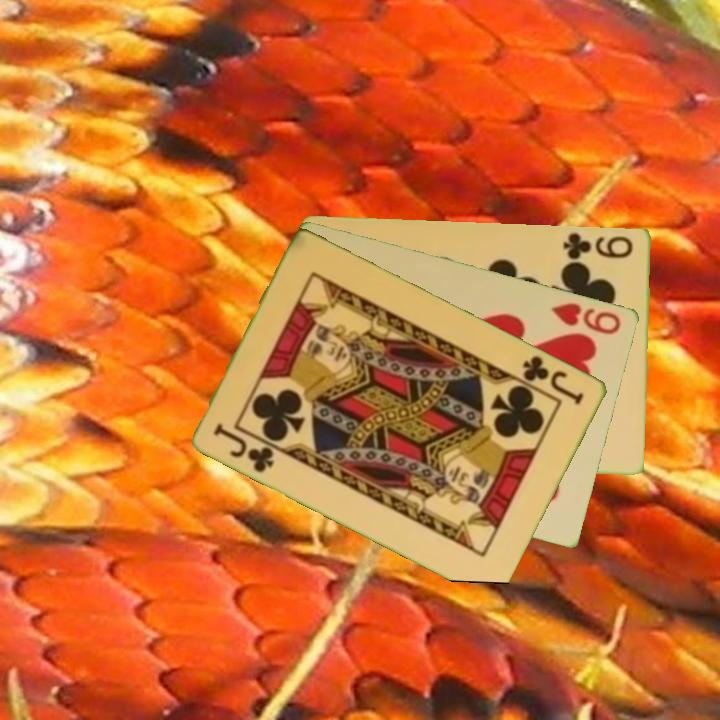9c: (560, 229, 636, 262)
9h: (548, 299, 625, 337)
Jc: (519, 351, 587, 408), (210, 419, 278, 476)
